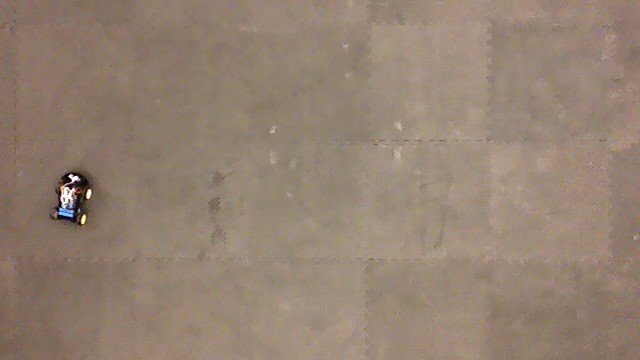Agent: (49, 170, 95, 228)
